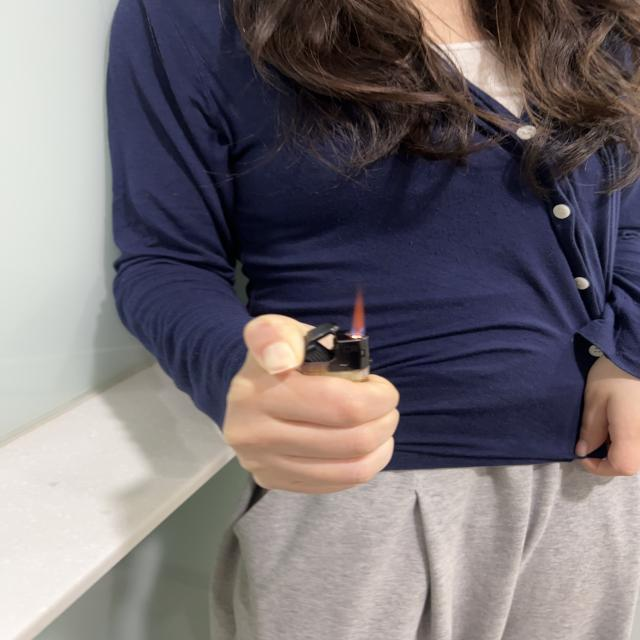fire: (352, 284, 369, 338)
